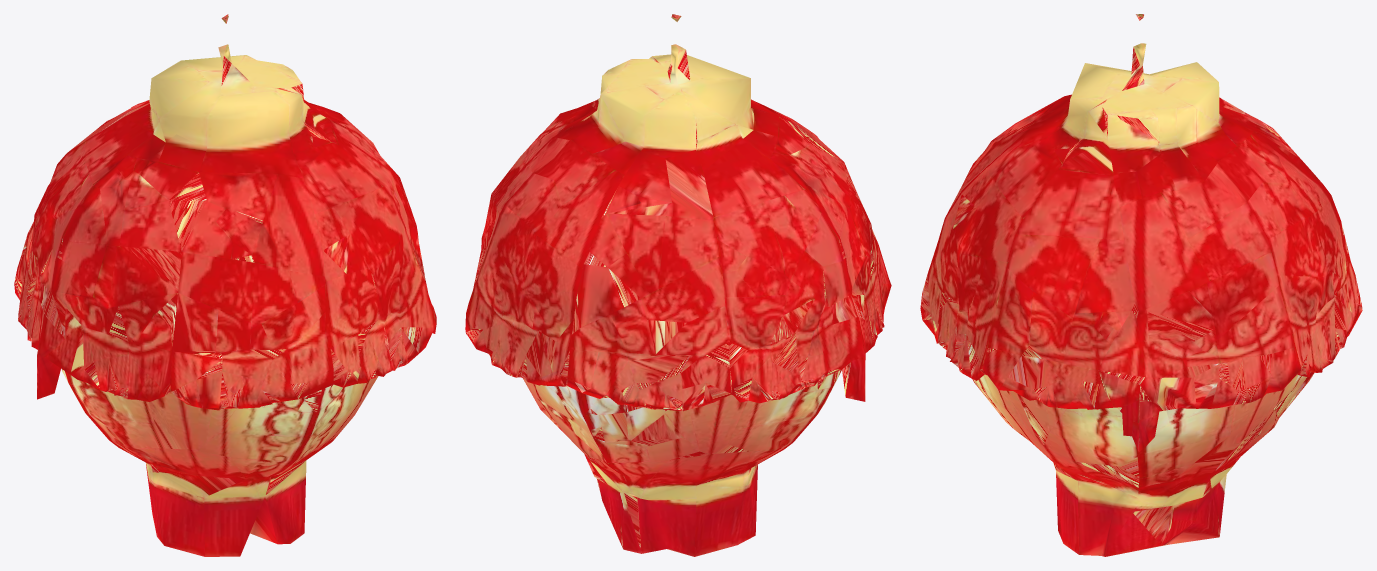
File: lib_lantern.far.glb
3 renders of one model, left to right at view 1: azimuth 30°, elevation 25°; view 2: azimuth 150°, elevation 25°; view 3: azimuth 270°, elevation 25°, orthographic. The views are drawn at different scales.
Bounding box in the file's own units: 1.41 × 1.82 × 1.4.
1 material, 1 textured.
